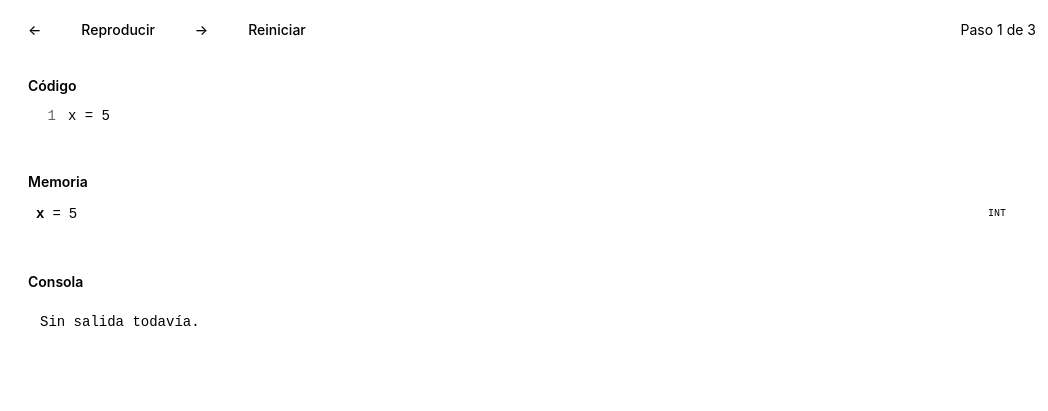
Test: TracePanel › muestra el error al llegar al paso con fallo
The image size is (1048, 411).
Click the button named "siguiente": {"x": 202, "y": 30} 179,12 -> 224,48
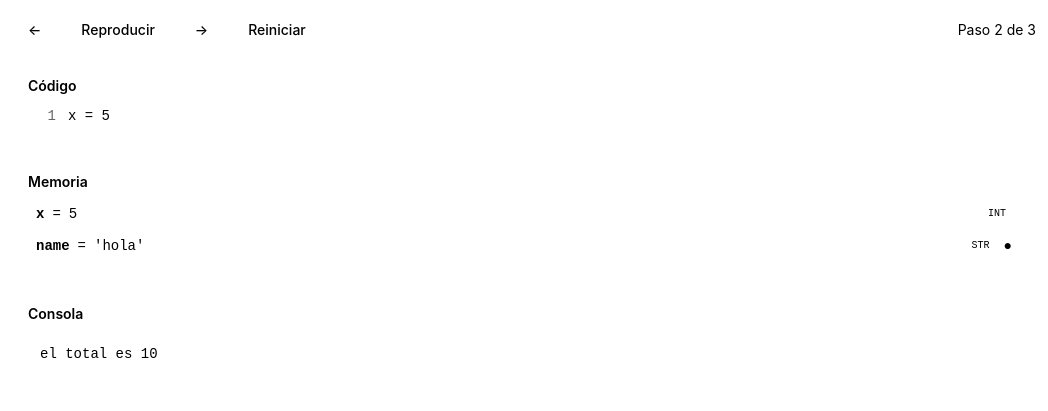
Click the button named "siguiente": {"x": 202, "y": 30} 179,12 -> 224,48
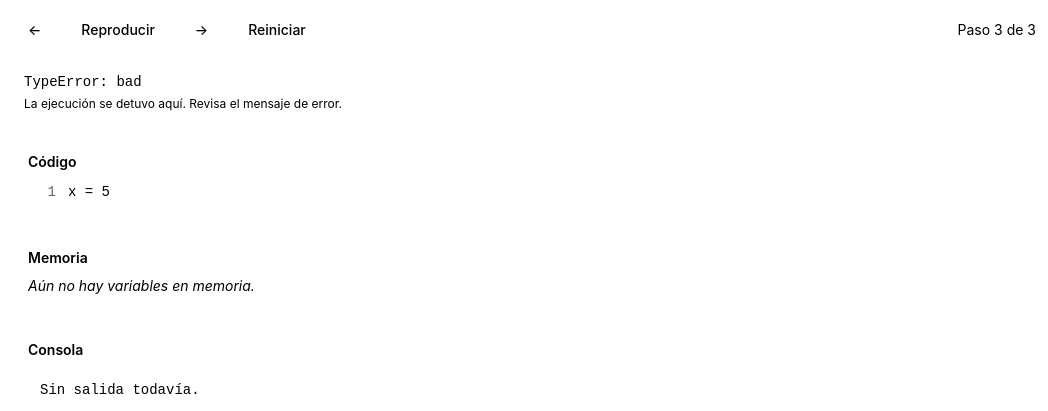
expect the text "TypeError: bad" is shown: met, box 24,74 -> 142,90
